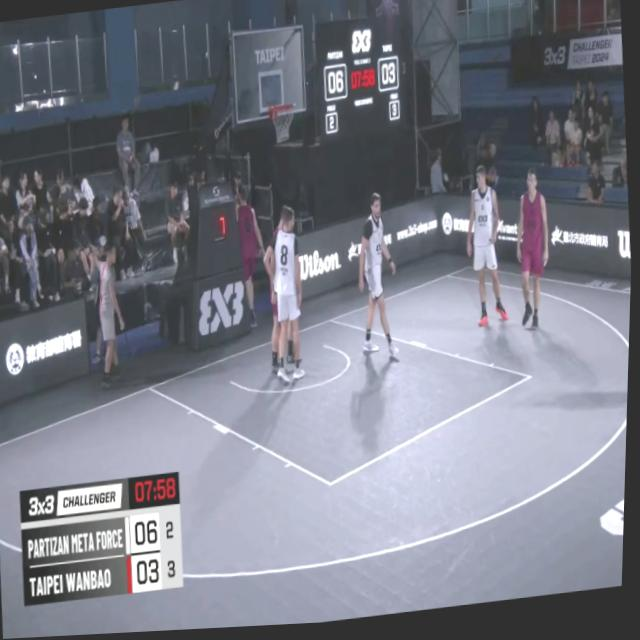hoop: (268, 105, 298, 151)
player: (258, 204, 312, 390), (352, 191, 409, 366), (459, 167, 515, 334), (510, 172, 557, 339)
